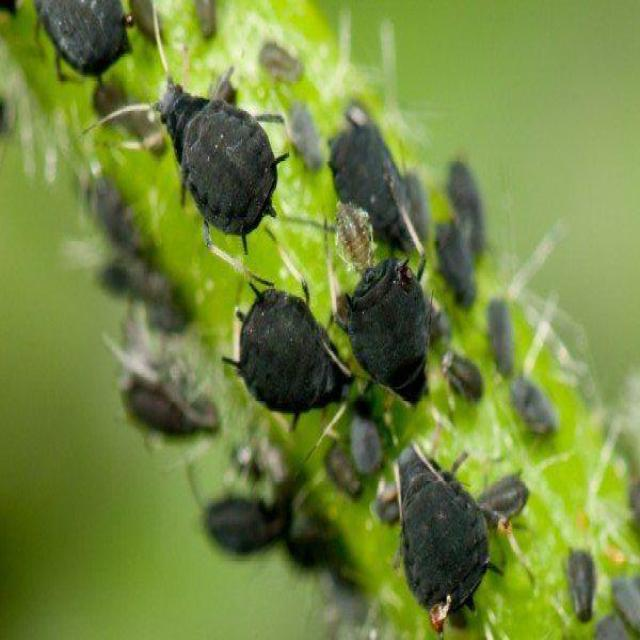Aphids: (131, 53, 297, 259), (320, 223, 459, 419), (378, 424, 504, 628), (212, 287, 366, 440)
